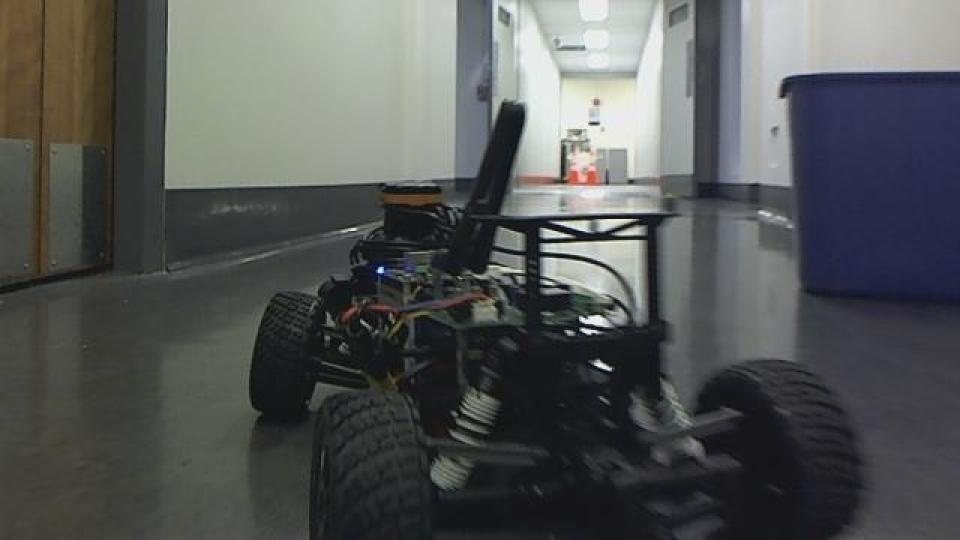car: (245, 97, 867, 537)
